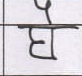ai_matra: (34, 0, 58, 24)
